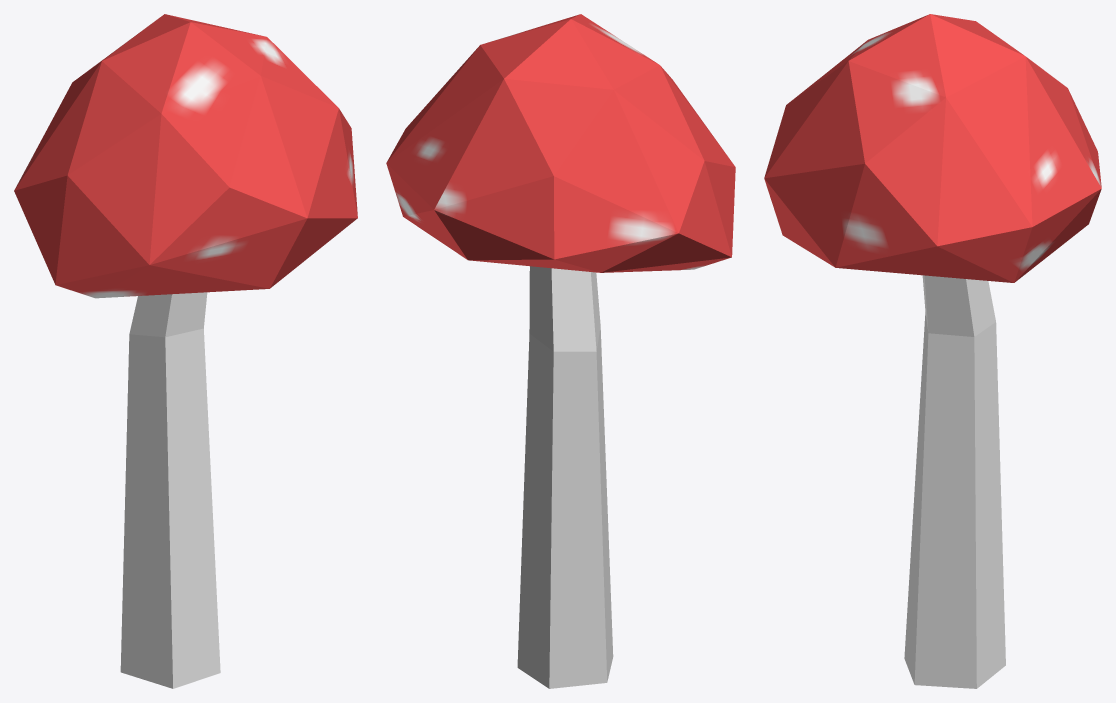
Rendered from Mushroom_e_01.fbx.
3 renders of one model, left to right at view 1: azimuth 30°, elevation 25°; view 2: azimuth 150°, elevation 25°; view 3: azimuth 270°, elevation 25°, orthographic. The views are drawn at different scales.
Visible parts, largest first — view 1: Mushroom_e_01; view 2: Mushroom_e_01; view 3: Mushroom_e_01.
Part boxes in pixels (x1,y1,x2,y2): Mushroom_e_01: (14,14,357,688); Mushroom_e_01: (386,14,735,688); Mushroom_e_01: (764,14,1101,688).
Bounding box in the file's own units: 0.2286 × 0.4528 × 0.2099.
